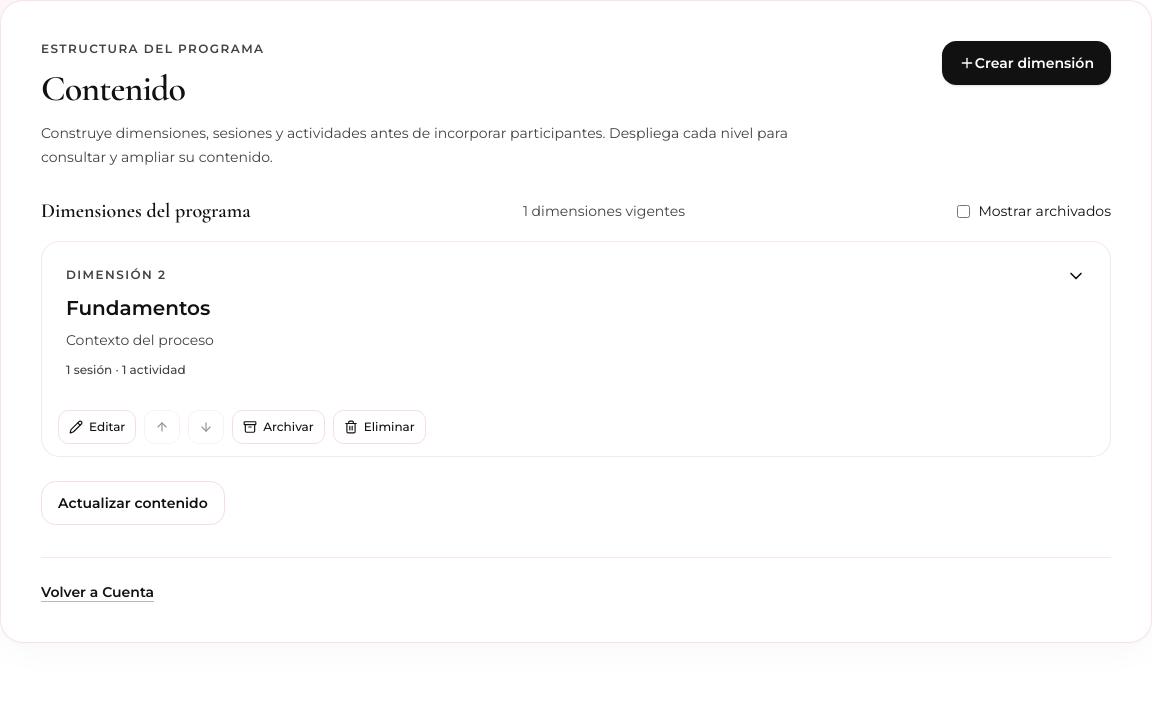
it: disables new and duplicated activities once a participant has closed the session
This screenshot has width=1152, height=720.
Click the button "Fundamentos". click: (576, 320)
box: [42,242,1110,398]
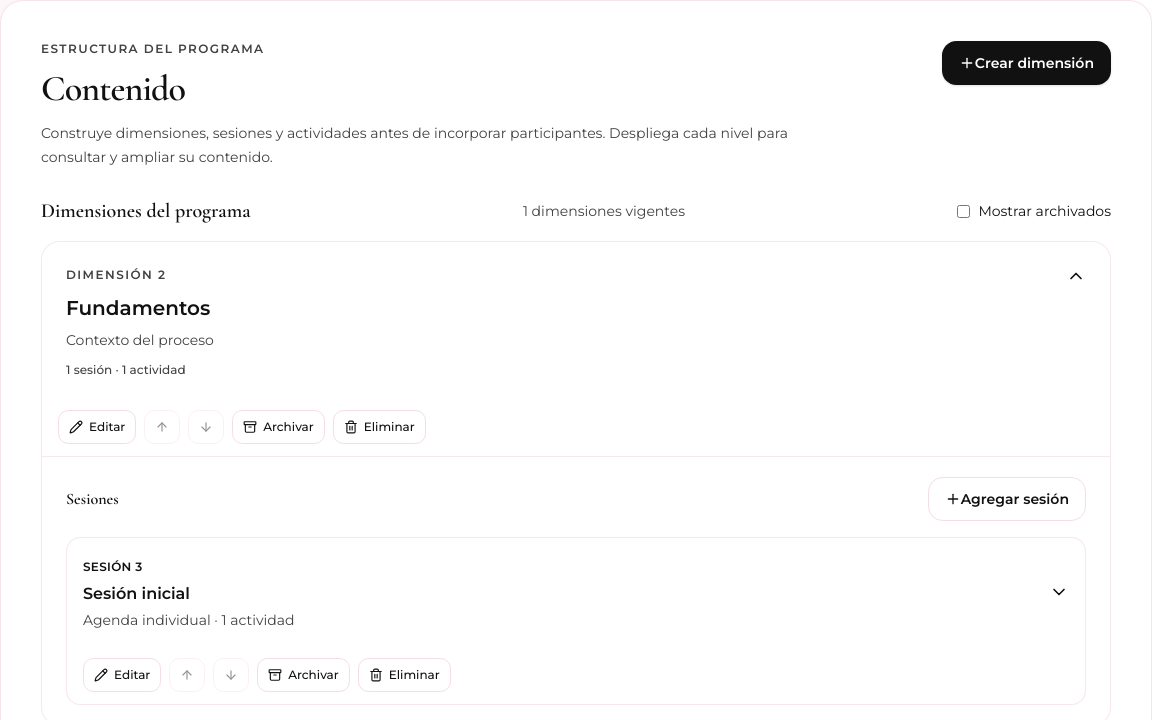
Click the button "Sesión 3 Sesión inicial Agenda individual · 1 actividad". click: (109, 566)
box: [67,538,1085,646]
(page scrolled)
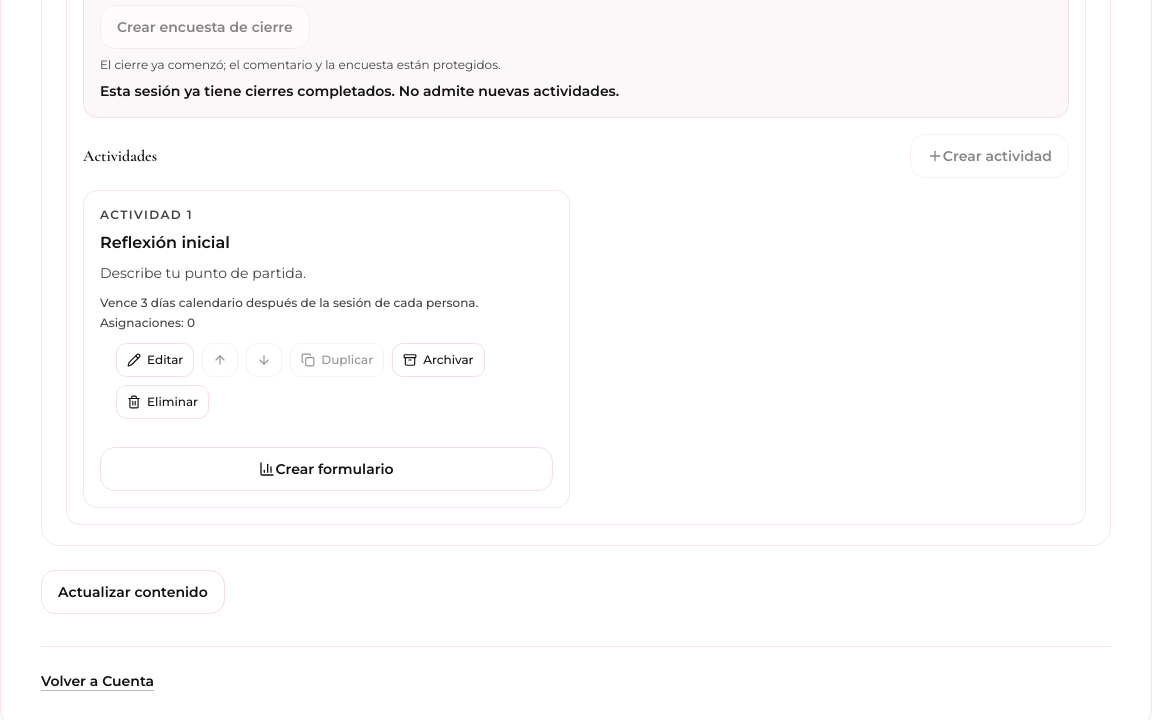
Result: the button "Crear actividad" is disabled at [910,134,1069,178]
Result: the button "Duplicar" is disabled at [290,343,384,377]
